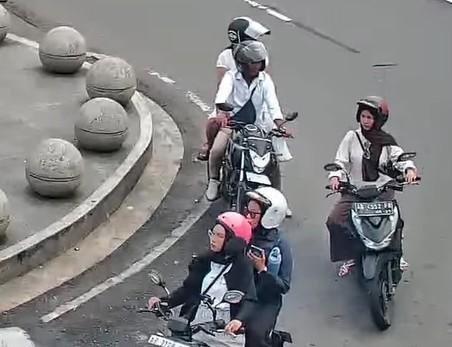Helmet: (246, 187, 287, 228), (228, 17, 270, 44), (216, 212, 251, 243), (233, 40, 267, 70), (356, 96, 388, 127)
Number Plate: (353, 201, 393, 216), (148, 335, 188, 346), (246, 172, 270, 184)
Rearview Mirror: (222, 290, 243, 303), (149, 270, 164, 286), (397, 152, 416, 161), (284, 112, 299, 122), (324, 163, 341, 171), (216, 103, 233, 111)
